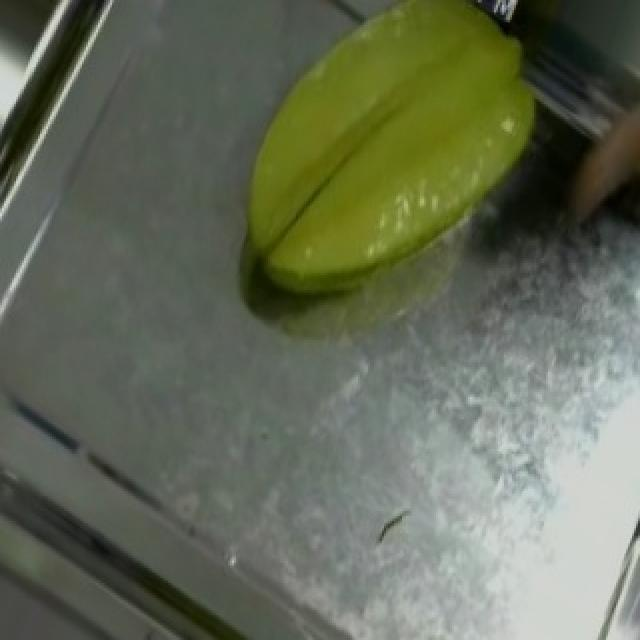fruit: (202, 0, 578, 332)
